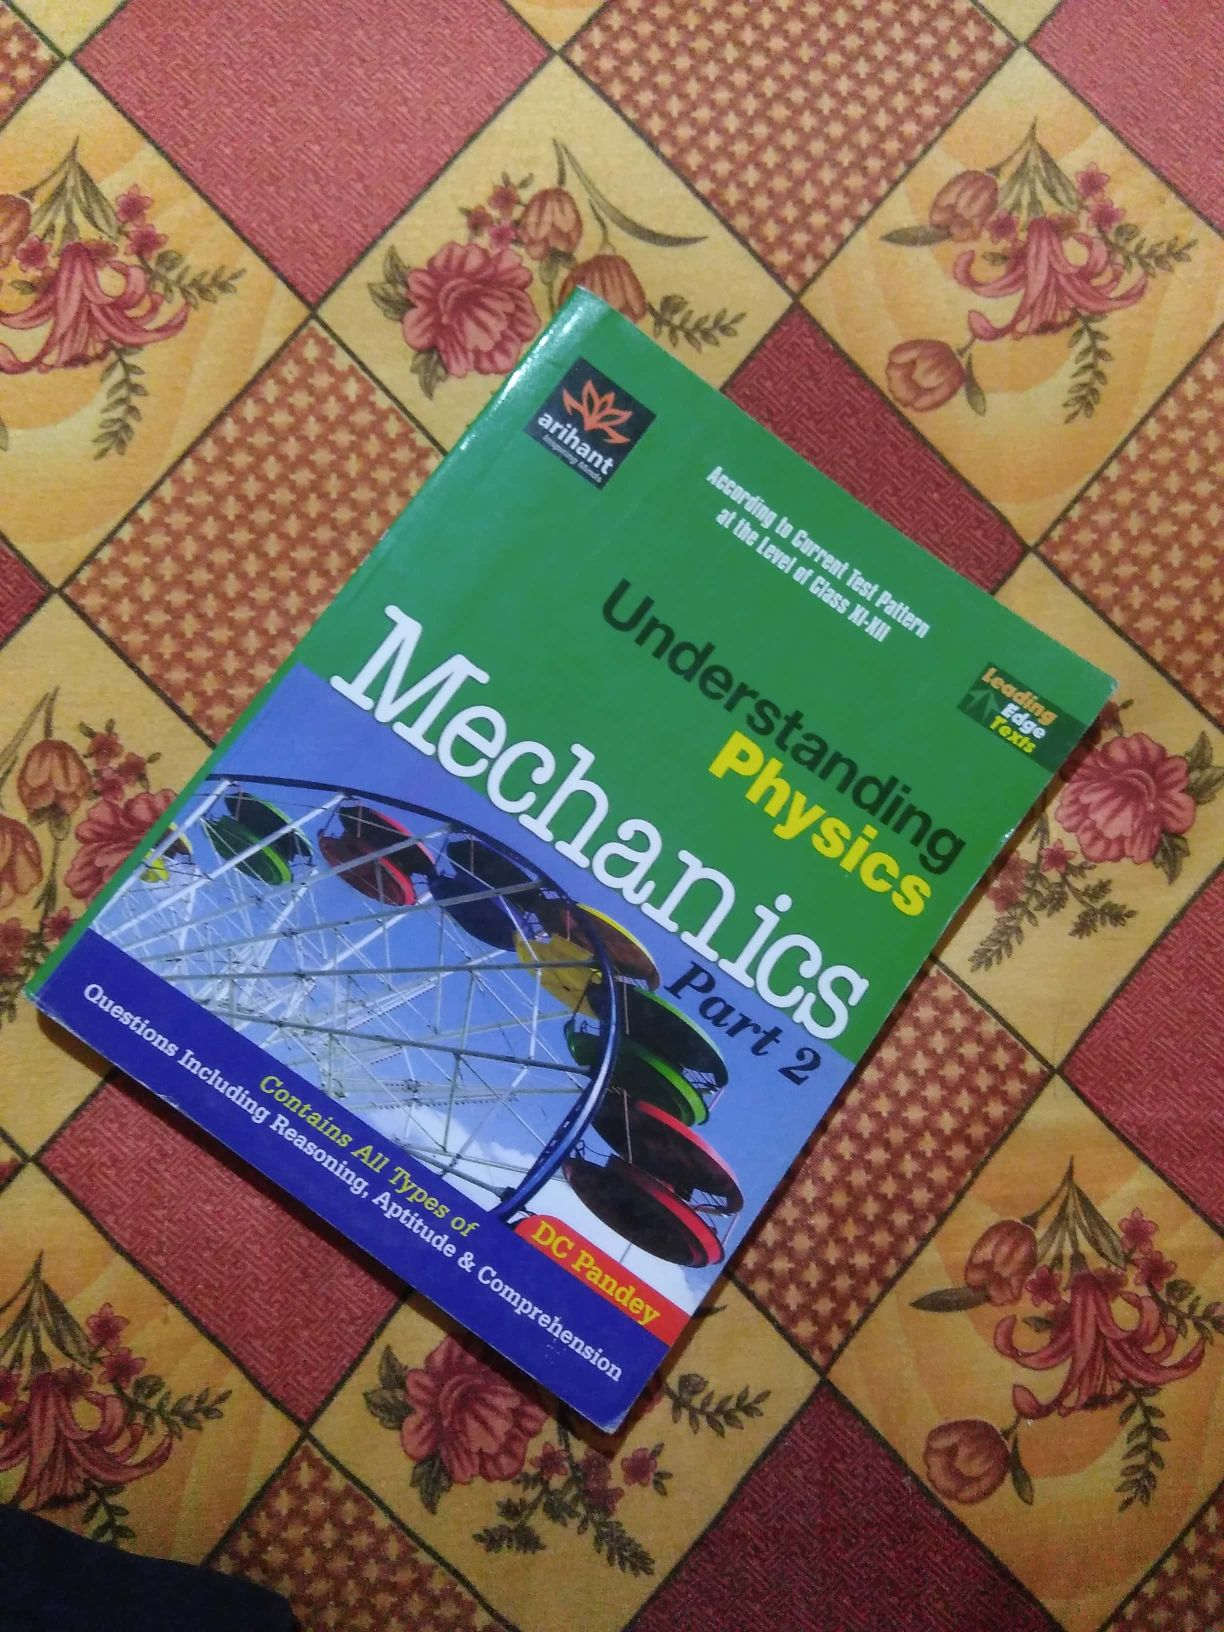mechanics: (87, 307, 1129, 1424)
